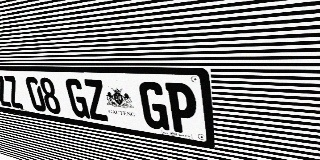0: (24, 76, 47, 112)
8: (38, 77, 62, 115)
G: (138, 81, 170, 131), (64, 78, 90, 119)
P: (165, 82, 198, 135)
Z: (82, 79, 110, 122), (2, 76, 24, 109), (0, 75, 12, 107)
